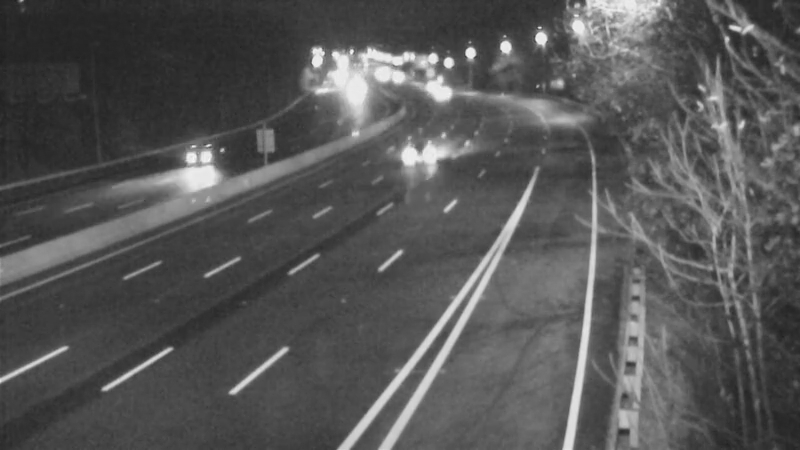vehicle: (148, 120, 228, 200), (403, 59, 453, 109), (412, 69, 462, 119), (400, 125, 450, 175)
